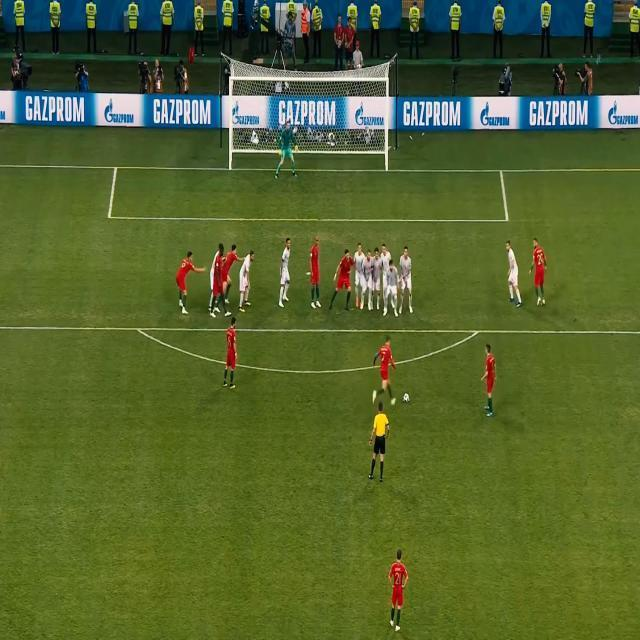ball: (402, 390, 411, 403)
goalkeeper: (274, 118, 302, 179)
player: (172, 248, 207, 314), (385, 545, 410, 632), (372, 336, 400, 410), (330, 249, 355, 315), (527, 237, 549, 309), (502, 241, 524, 308), (220, 243, 244, 303), (480, 342, 499, 416), (221, 317, 240, 391), (397, 245, 415, 315), (277, 236, 294, 309), (237, 251, 256, 316), (208, 242, 224, 316), (309, 239, 322, 313), (384, 257, 399, 319), (354, 243, 366, 311), (371, 247, 383, 311), (364, 246, 372, 313), (381, 241, 394, 265)
referee: (366, 404, 391, 485)
